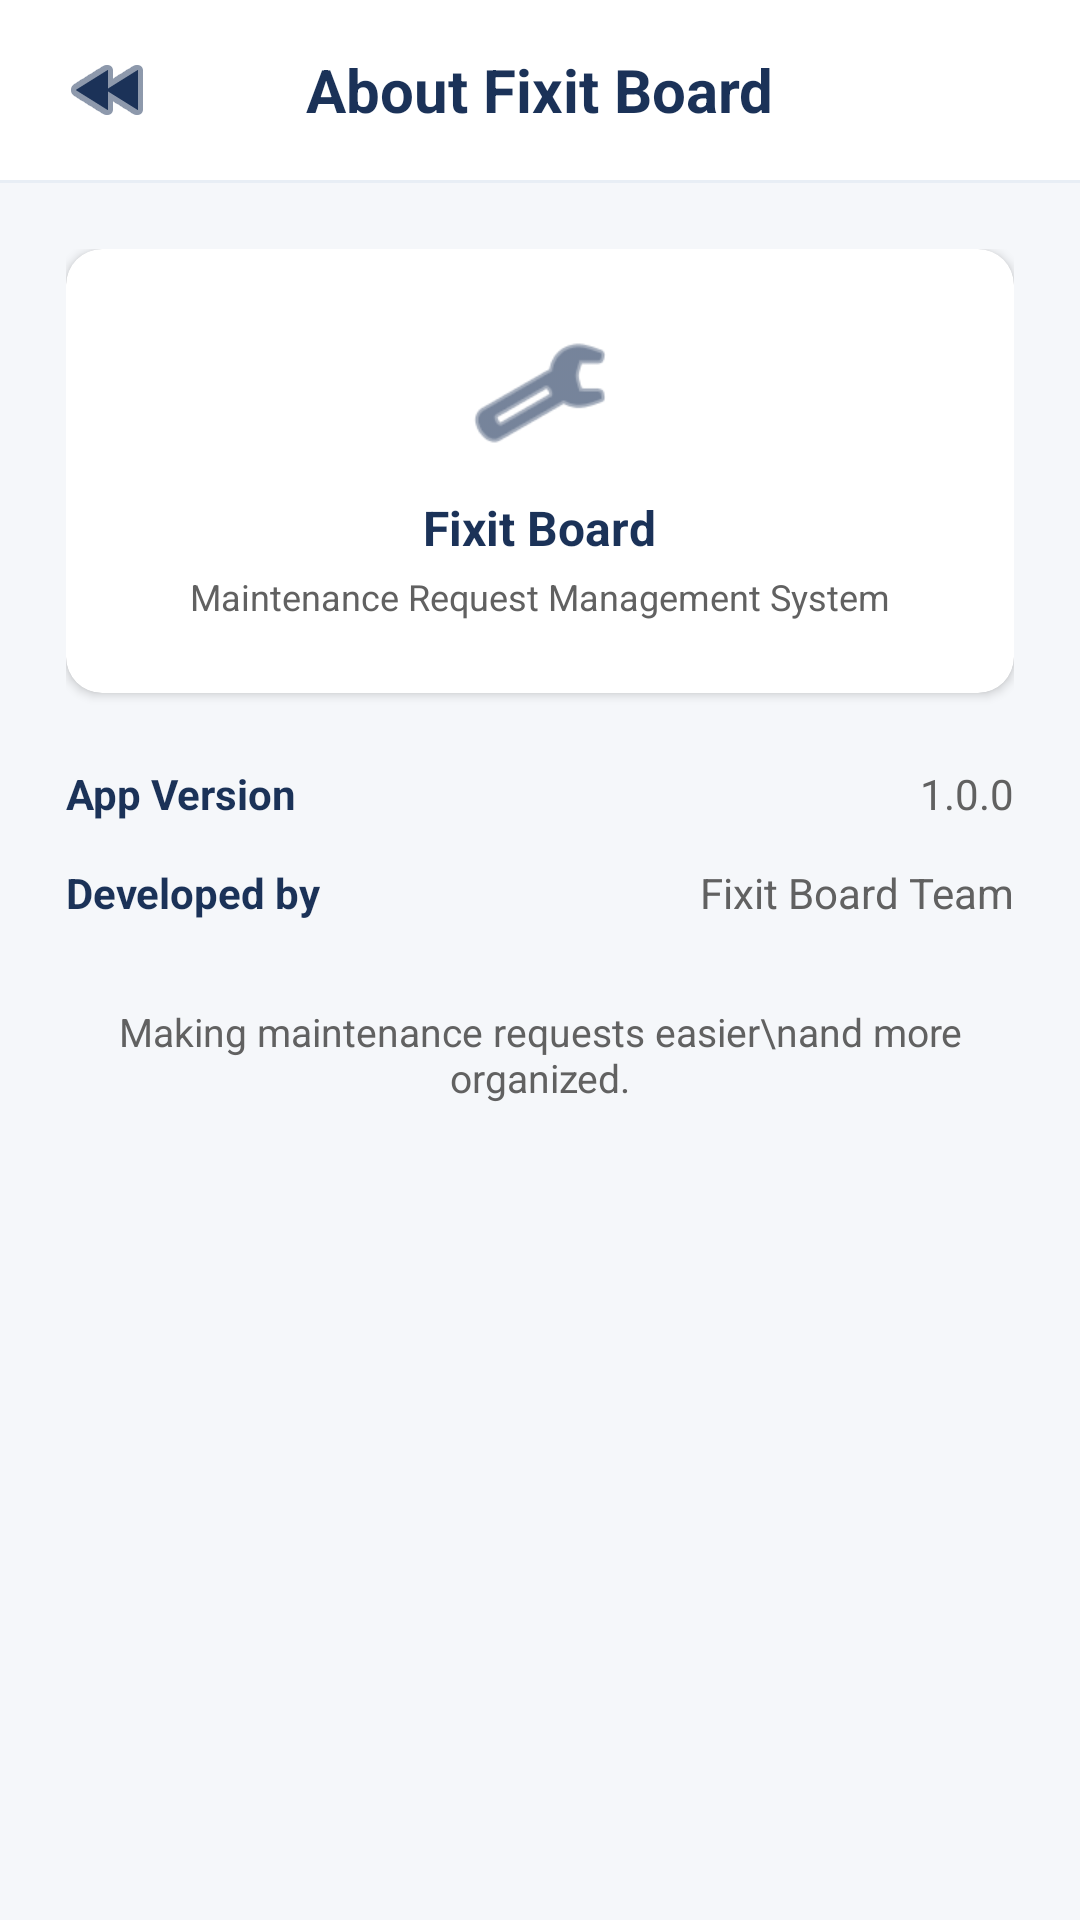

Named icons in this screenshot (1080*1920) and their centers, point (x, y):
Back: point (107, 90)
